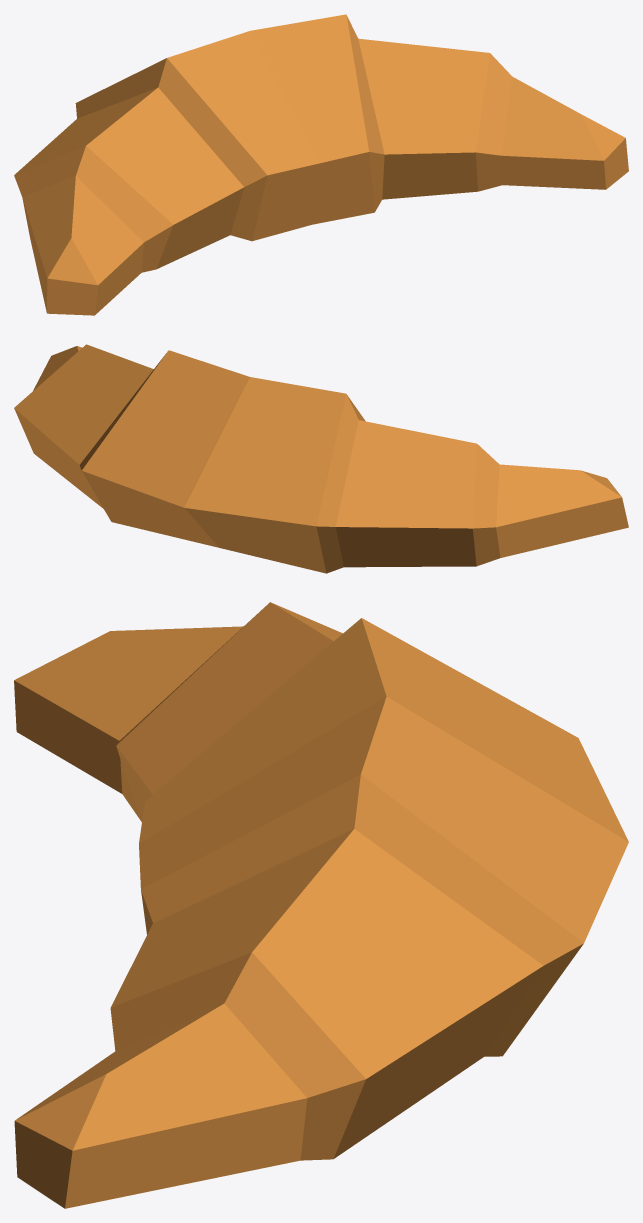
File: Croissant.glb
3 renders of one model, top to bottom at view 1: azimuth 30°, elevation 25°; view 2: azimuth 150°, elevation 25°; view 3: azimuth 270°, elevation 25°, orthographic. The views are drawn at different scales.
Visible parts, largest first — view 1: Croissant; view 2: Croissant; view 3: Croissant.
Part boxes in pixels (left/top/right/bottom): Croissant: left=14, top=14, right=628, bottom=315; Croissant: left=14, top=344, right=628, bottom=573; Croissant: left=14, top=602, right=628, bottom=1208.
Bounding box in the file's own units: 0.2994 × 0.0738 × 0.1532.
